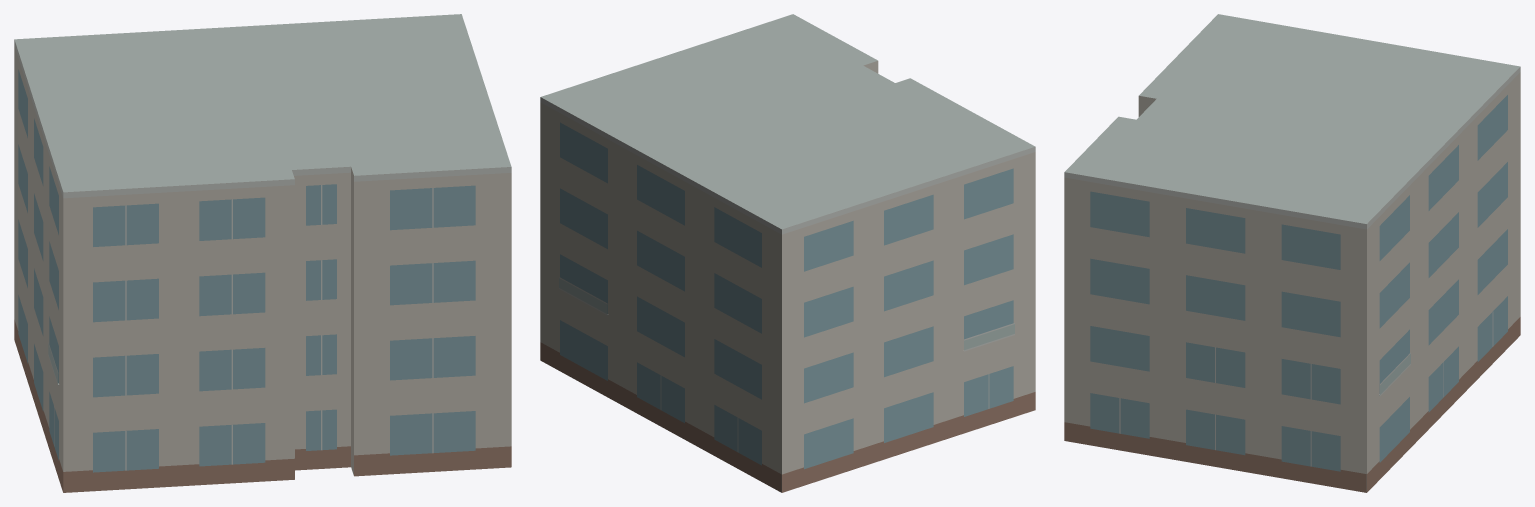
Rendered from survey-upis-32999357.glb.
3 renders of one model, left to right at view 1: azimuth 30°, elevation 25°; view 2: azimuth 150°, elevation 25°; view 3: azimuth 270°, elevation 25°, orthographic. The views are drawn at different scales.
Parts seen in each view (by area): view 1: survey-upis-32999357.tmp; view 2: survey-upis-32999357.tmp; view 3: survey-upis-32999357.tmp.
Part boxes in pixels (<box>): survey-upis-32999357.tmp: <box>14,14,511,492</box>; survey-upis-32999357.tmp: <box>540,14,1035,492</box>; survey-upis-32999357.tmp: <box>1064,14,1520,492</box>.
Bounding box in the file's own units: 20.47 × 12.2 × 18.77.
